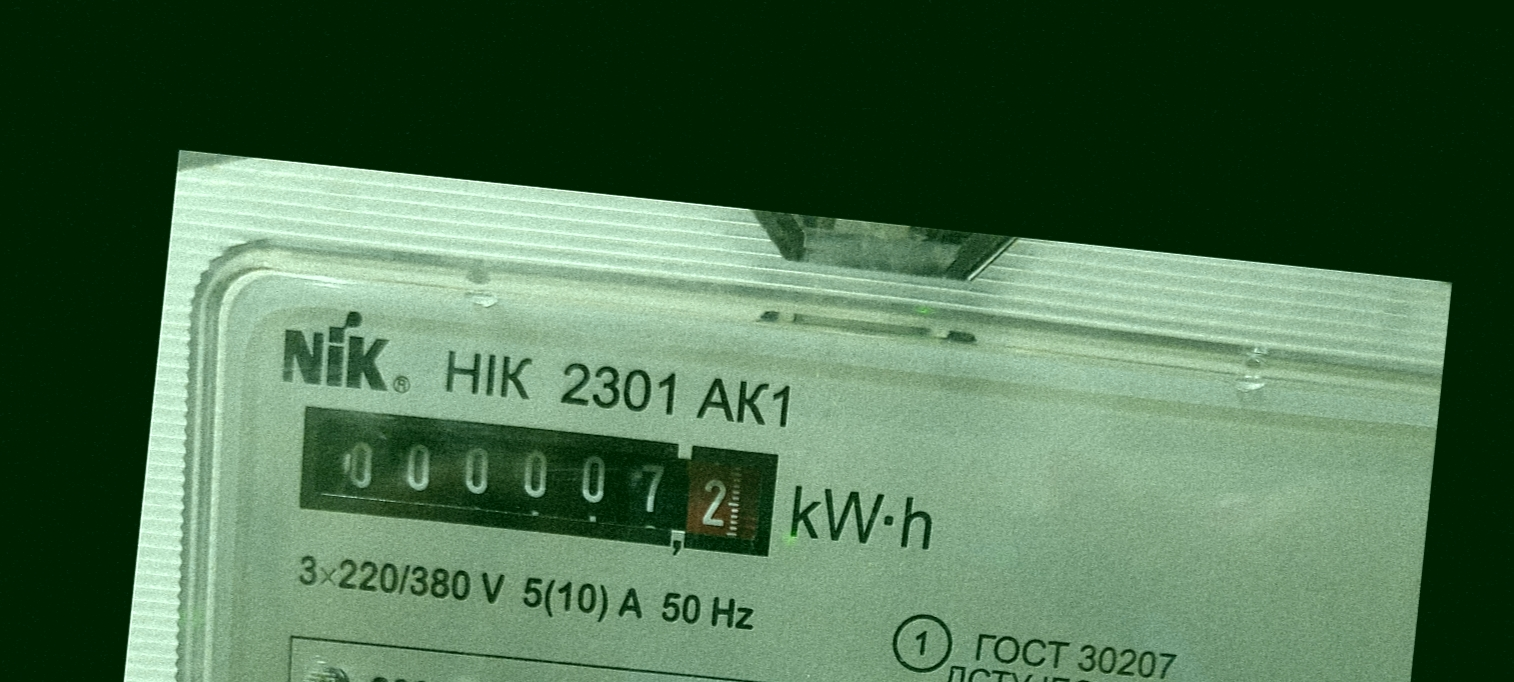0: (399, 437, 439, 492), (575, 451, 613, 506), (518, 444, 554, 500), (343, 436, 380, 490), (460, 441, 496, 496)
2: (697, 475, 733, 528)
7: (633, 458, 668, 515)
screen: (276, 383, 801, 577)
